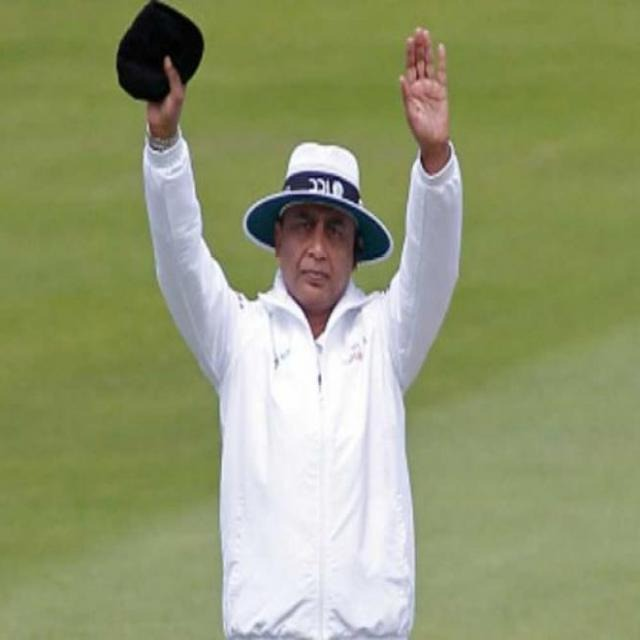Six: (116, 0, 476, 640)
